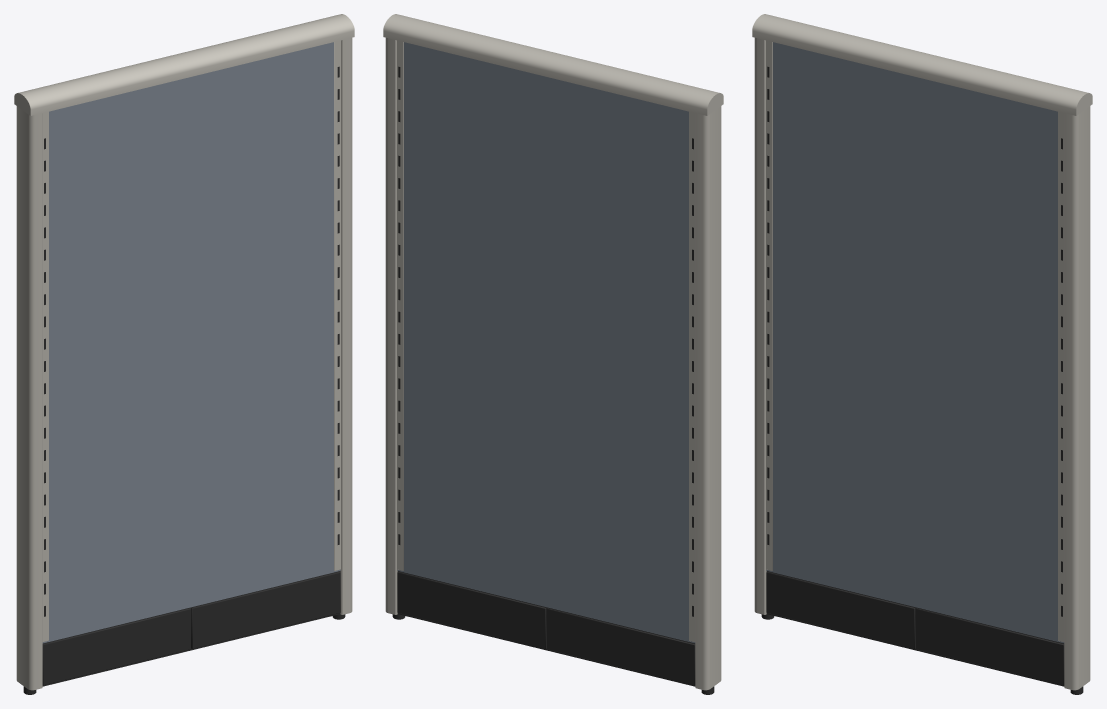
Rendered from Kit_CubiclePanelShort_1350.fbx.
The picture shows the model from 3 angles, left to right: view 1: azimuth 30°, elevation 25°; view 2: azimuth 150°, elevation 25°; view 3: azimuth 330°, elevation 25°; orthographic projection.
Visible parts, largest first — view 1: Kit_CubiclePanelShort_1350_LOD0; view 2: Kit_CubiclePanelShort_1350_LOD0; view 3: Kit_CubiclePanelShort_1350_LOD0.
Boxes of the visible parts, bbox=[...] form: Kit_CubiclePanelShort_1350_LOD0: bbox=[14, 14, 354, 694]; Kit_CubiclePanelShort_1350_LOD0: bbox=[383, 14, 723, 694]; Kit_CubiclePanelShort_1350_LOD0: bbox=[752, 14, 1092, 694].
Size of what is drawn, in the model's own units: 0.762 by 1.35 by 0.067.
